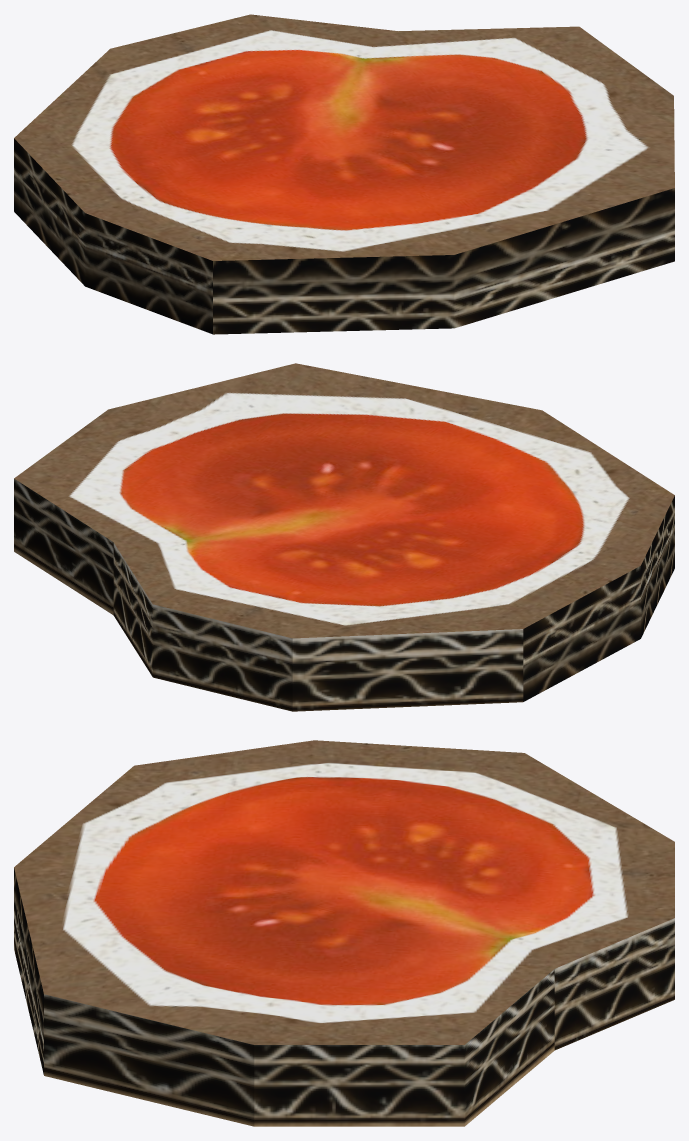
The model's file is TomatoSlice.obj.
3 views of the same model, one above another, from view 1: azimuth 30°, elevation 25°; view 2: azimuth 150°, elevation 25°; view 3: azimuth 270°, elevation 25° (orthographic). The views are drawn at different scales.
Parts seen in each view (by area): view 1: Plane; view 2: Plane; view 3: Plane.
Boxes of the visible parts, bbox=[...] form: Plane: bbox=[14, 14, 674, 334]; Plane: bbox=[14, 363, 674, 711]; Plane: bbox=[14, 740, 674, 1126].
Size of the model in its own units: 2.4 by 0.3 by 2.2.
